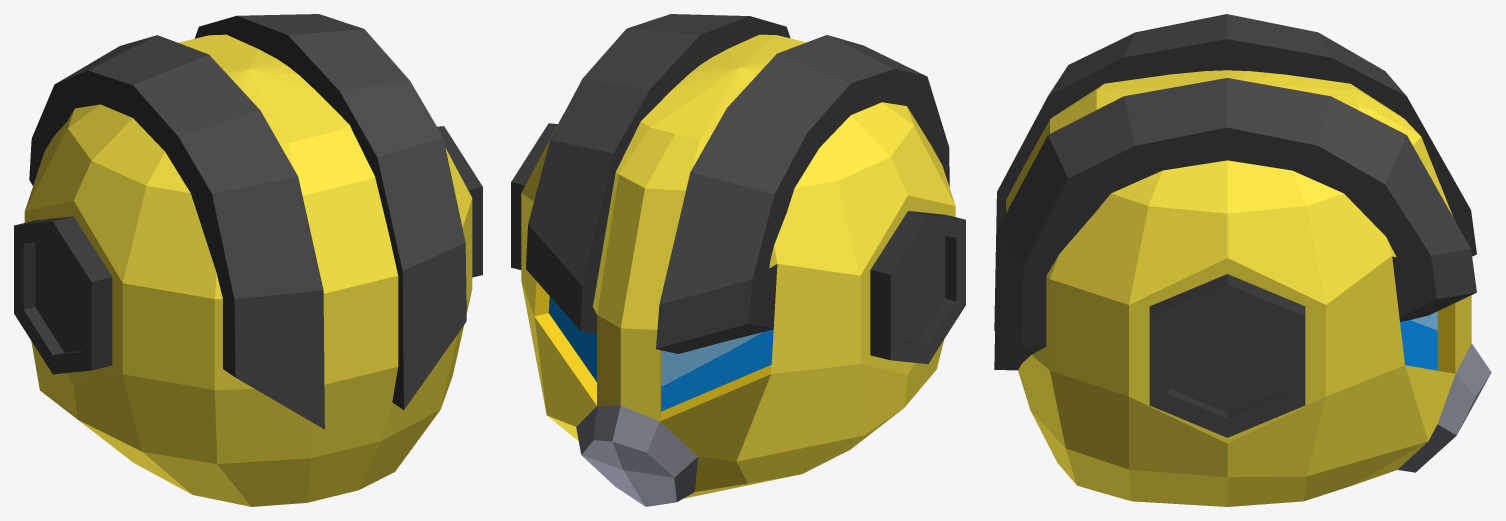
File: StingerHead.obj
3 renders of one model, left to right at view 1: azimuth 30°, elevation 25°; view 2: azimuth 150°, elevation 25°; view 3: azimuth 270°, elevation 25°, orthographic. The views are drawn at different scales.
Parts seen in each view (by area): view 1: sphere, cylinder; view 2: sphere, cylinder; view 3: sphere, cylinder.
Part boxes in pixels (bbox=[...]): sphere: bbox=[24, 14, 472, 506]; cylinder: bbox=[14, 126, 482, 374]; sphere: bbox=[521, 14, 955, 506]; cylinder: bbox=[511, 123, 965, 363]; sphere: bbox=[994, 14, 1491, 506]; cylinder: bbox=[1149, 274, 1305, 437].
Bounding box in the file's own units: 0.4375 × 0.457 × 0.4789.
Materials: 1 (1 with a texture image).
